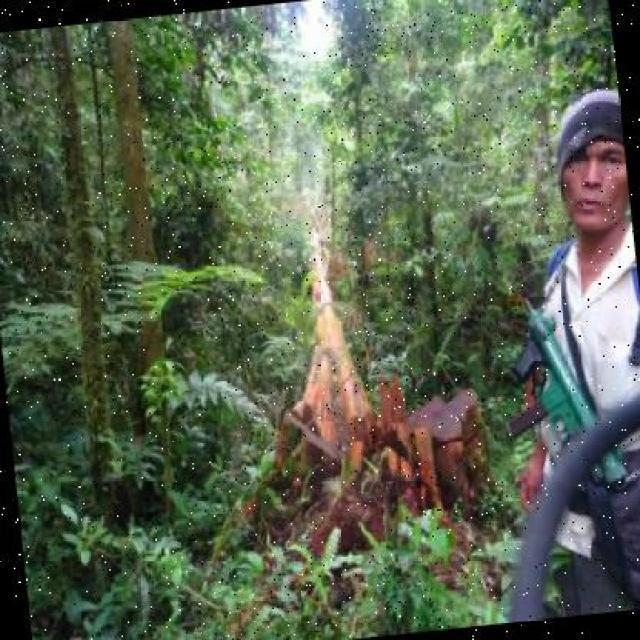ranger: (477, 55, 640, 551)
